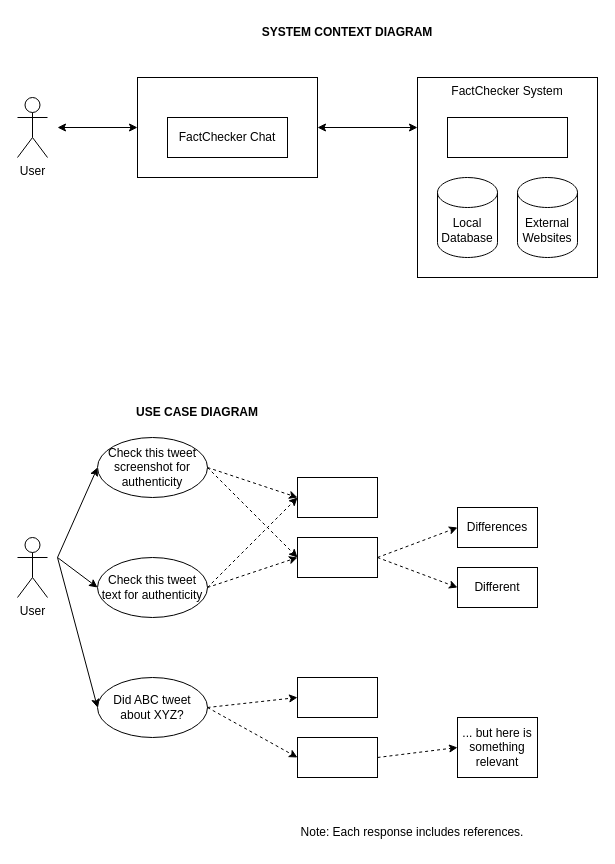
This 615x864 diagram has some shape labels left out. Each missing label, with the centre of its shape:
"Authentic" belongs at [337,497].
"FactChecker Engine" belongs at [507,137].
"No" belongs at [337,757].
"Not authentic" belongs at [337,557].
"WhatsApp App" belongs at [227,127].
"Yes" belongs at [337,697].
